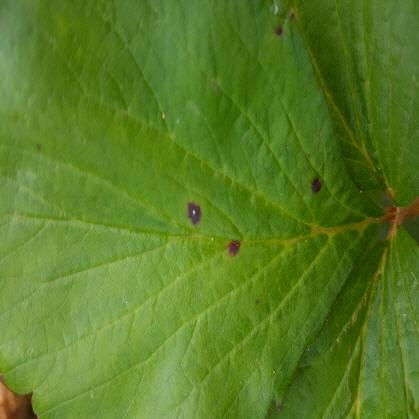Leaf Spot: (0, 0, 392, 418)
